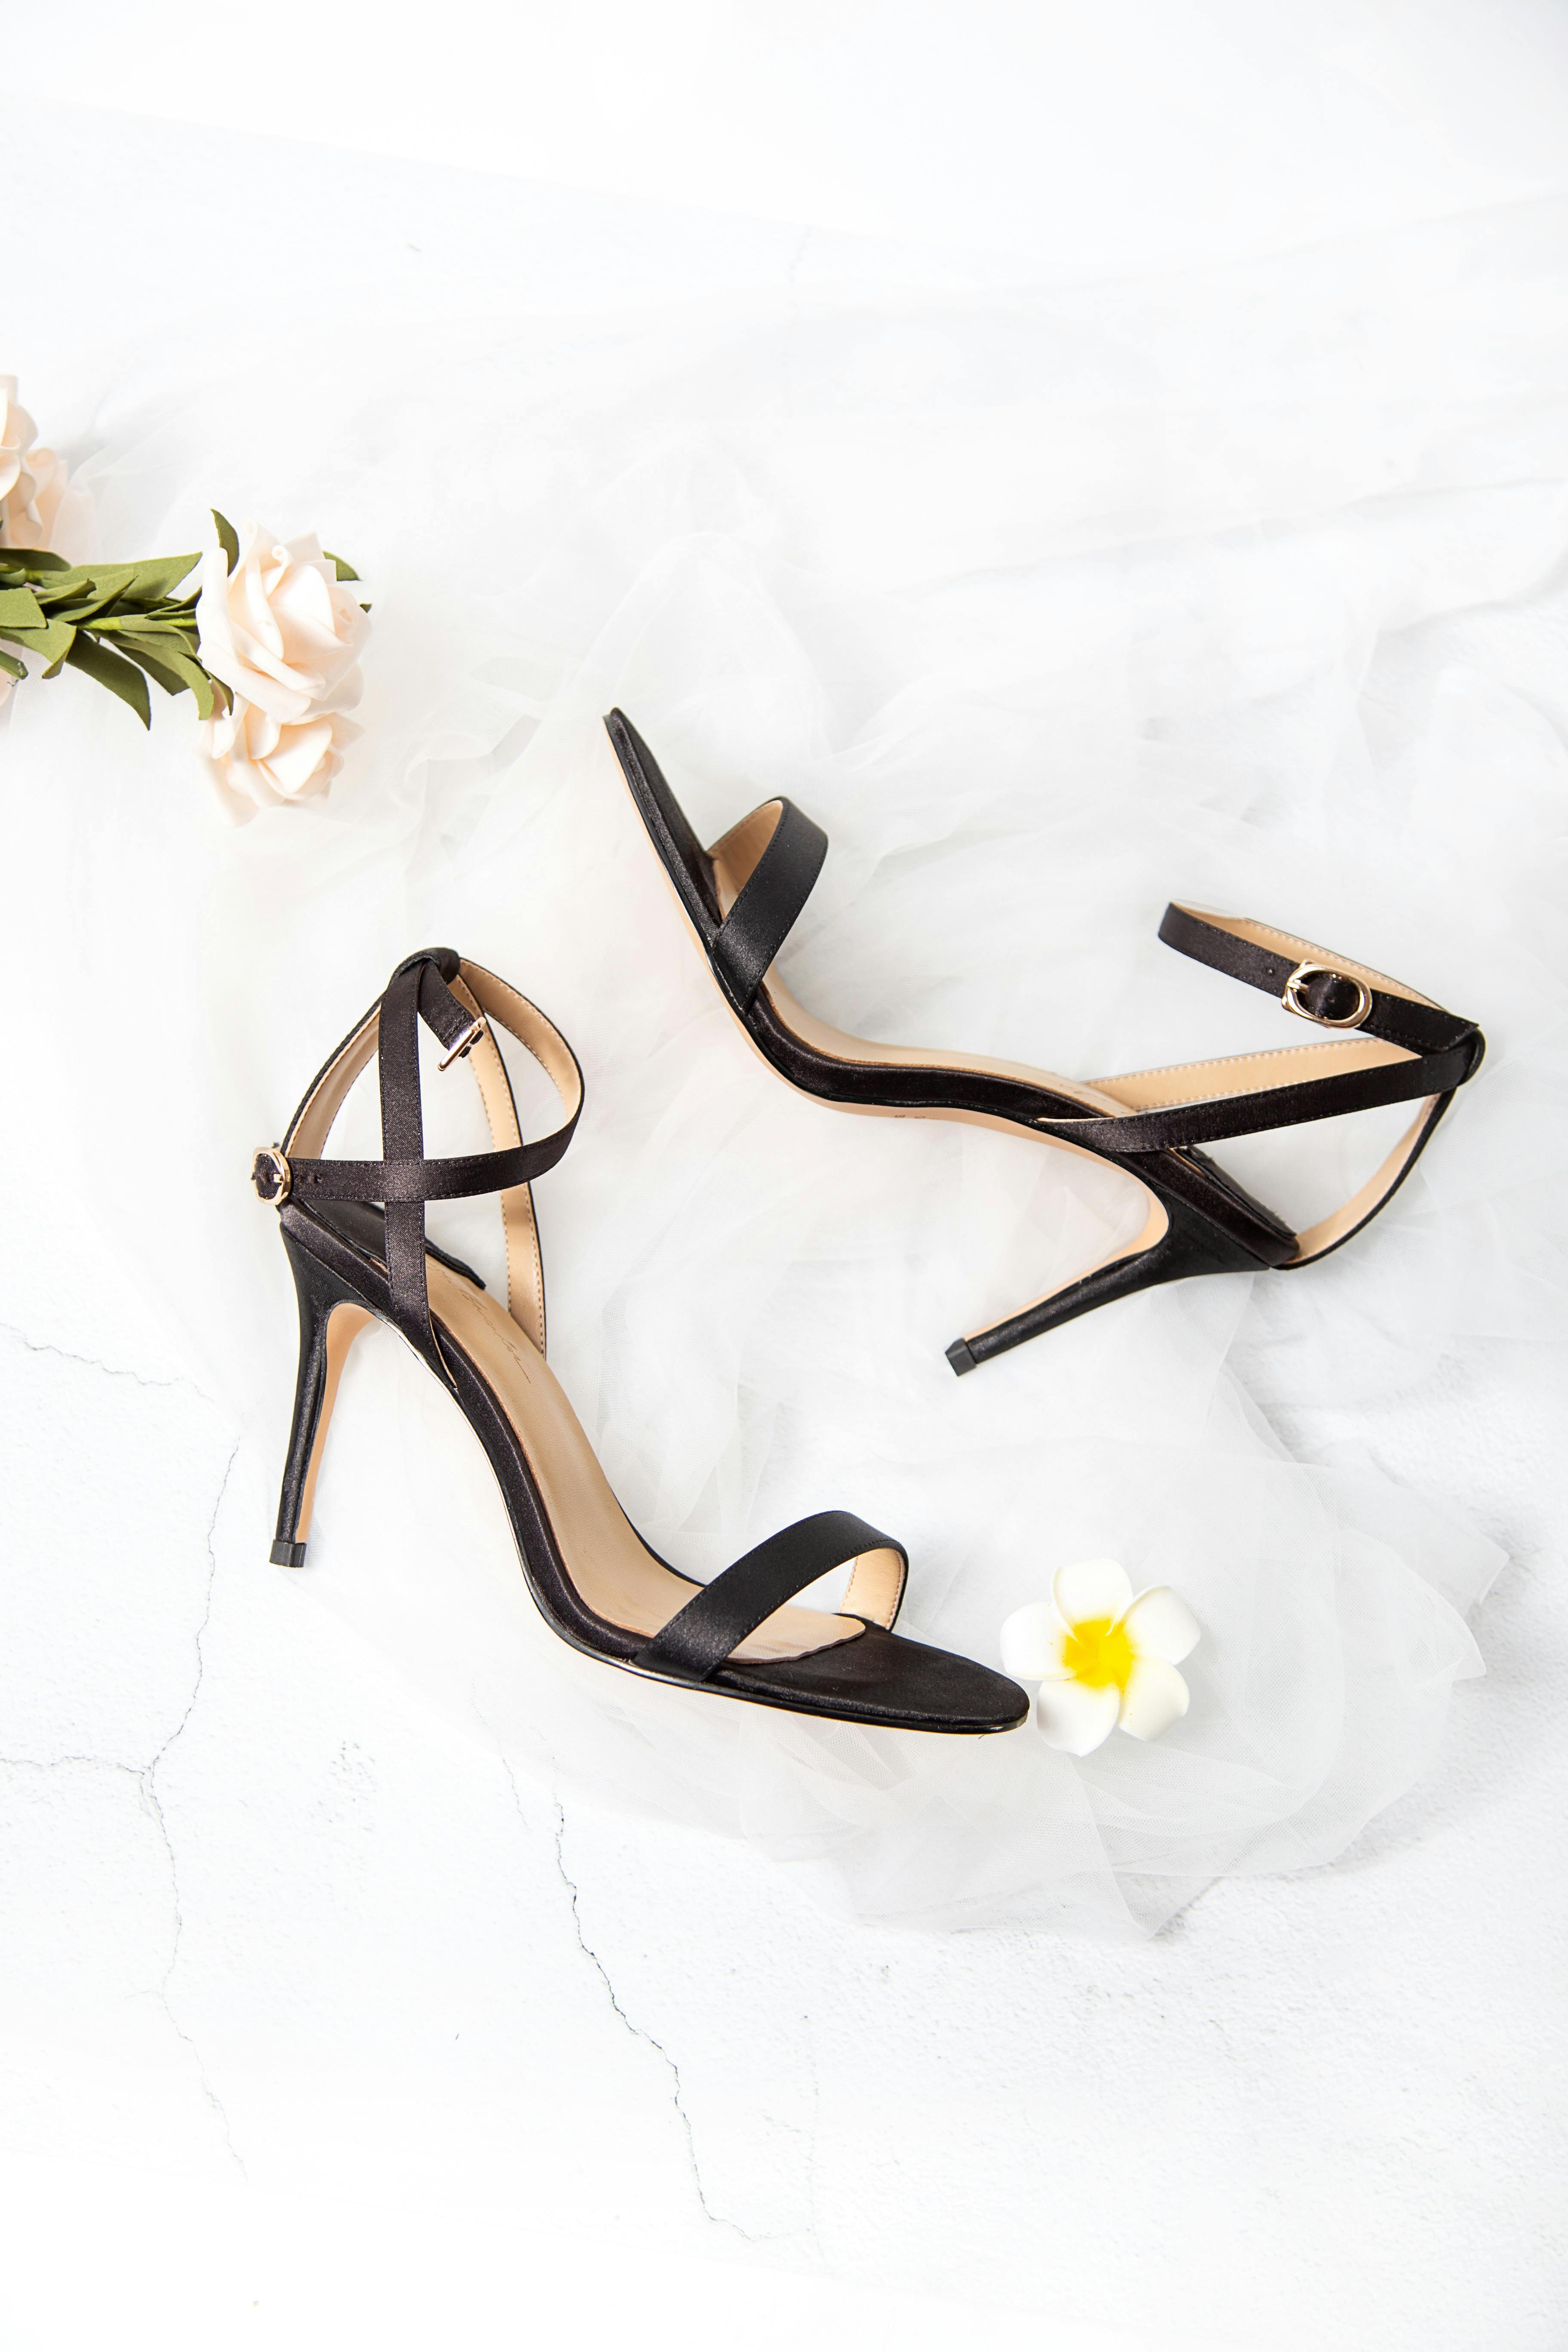Footwear: (220, 710, 1505, 1760), (191, 917, 1050, 1755), (563, 686, 1491, 1368)
